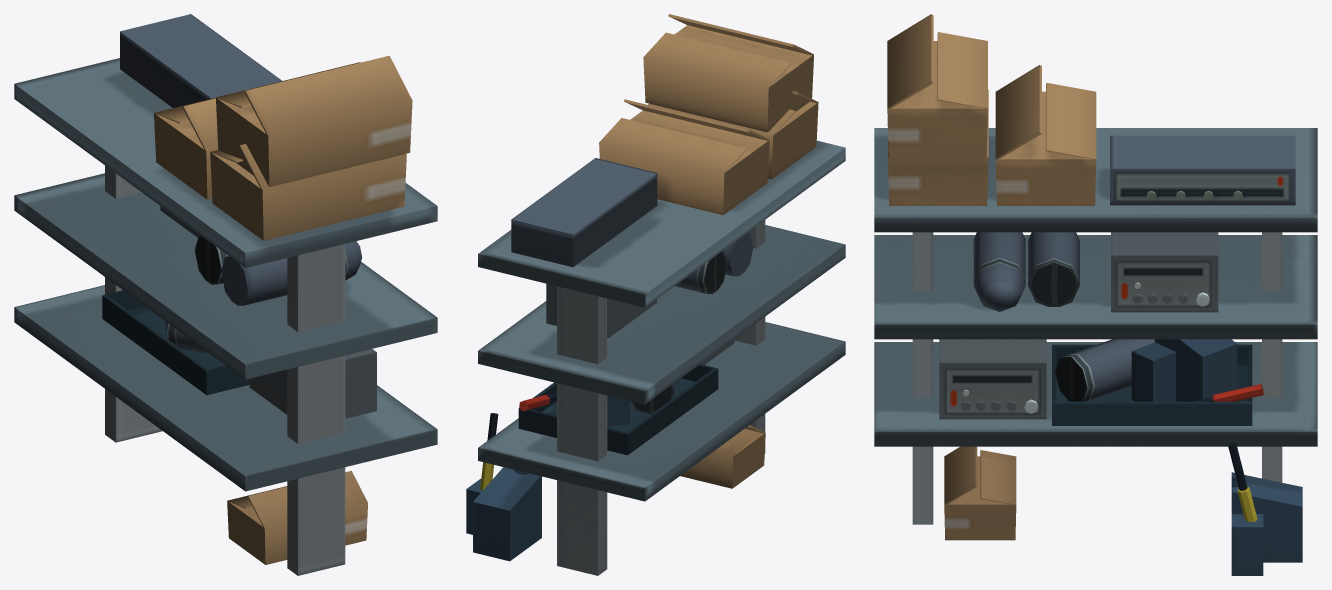
Rendered from Tx_prop_shelf_1_3.fbx.
3 views of the same model, side by side, from view 1: azimuth 30°, elevation 25°; view 2: azimuth 150°, elevation 25°; view 3: azimuth 270°, elevation 25° (orthographic). The views are drawn at different scales.
Parts seen in each view (by area): view 1: Tx_prop_shelf_1_9; view 2: Tx_prop_shelf_1_9; view 3: Tx_prop_shelf_1_9.
Part boxes in pixels (x1,y1,x2,y2): Tx_prop_shelf_1_9: (14, 14, 437, 575); Tx_prop_shelf_1_9: (466, 14, 845, 575); Tx_prop_shelf_1_9: (874, 14, 1317, 575).
Bounding box in the file's own units: 3.7 × 7.36 × 6.31.
2 materials, 2 textured.
